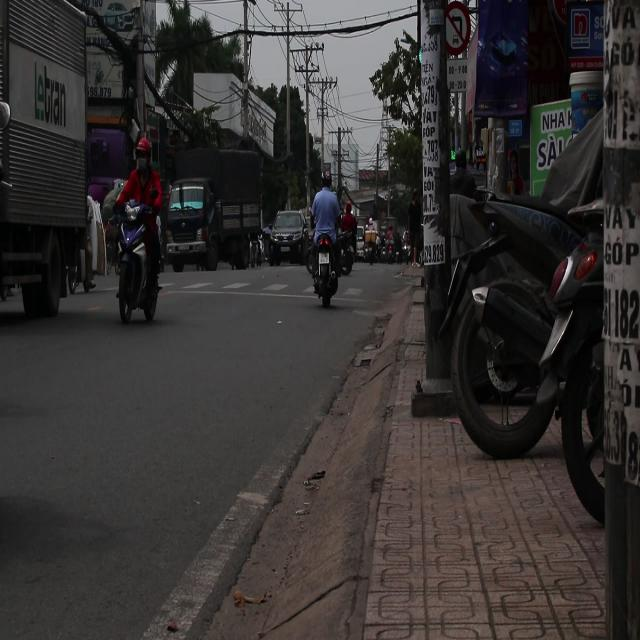car: (266, 210, 308, 264)
motorbike: (106, 198, 163, 326), (304, 218, 347, 308)
truck: (1, 4, 99, 324), (167, 148, 265, 270), (160, 179, 220, 271)
